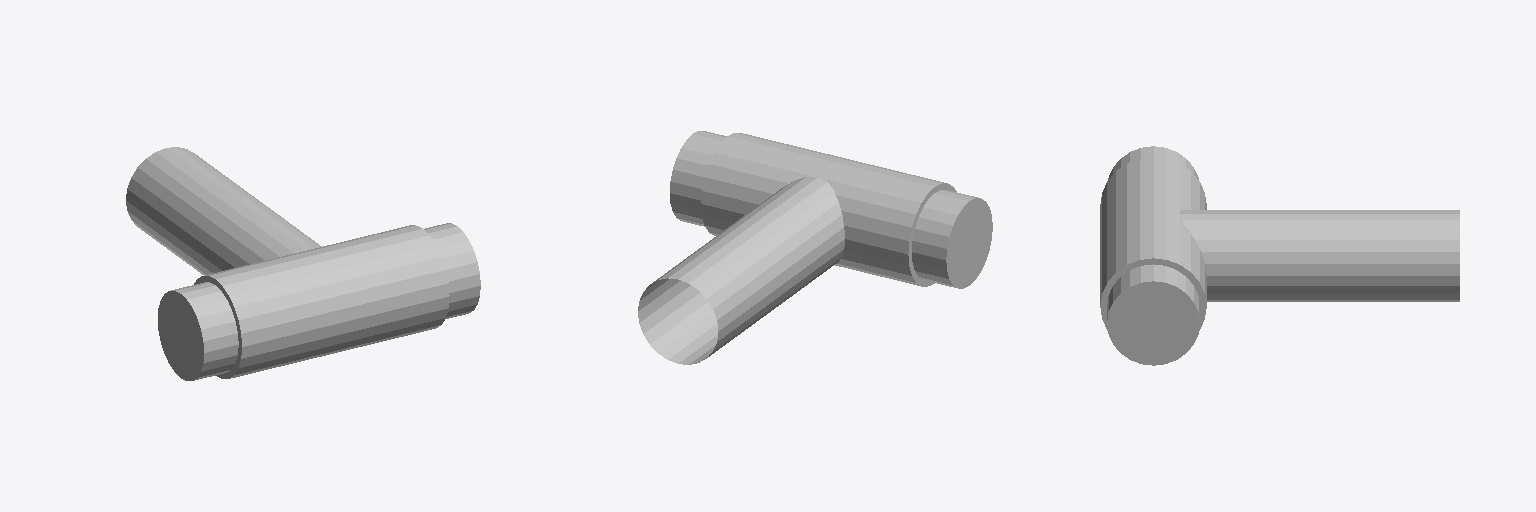
The model's file is SM High gain antenna T bar.obj.
3 views of the same model, side by side, from view 1: azimuth 30°, elevation 25°; view 2: azimuth 150°, elevation 25°; view 3: azimuth 270°, elevation 25° (orthographic).
Visible parts, largest first — view 1: Mesh.001, Mesh; view 2: Mesh.001, Mesh; view 3: Mesh.001, Mesh.
Boxes of the visible parts, box(x1,y1,x2,y2) form: Mesh.001: box(126, 147, 480, 380); Mesh: box(158, 276, 241, 380); Mesh.001: box(638, 131, 977, 364); Mesh: box(908, 183, 992, 288); Mesh.001: box(1100, 146, 1459, 319); Mesh: box(1100, 258, 1206, 365).
Bounding box in the file's own units: 0.3048 × 0.1016 × 0.3429.